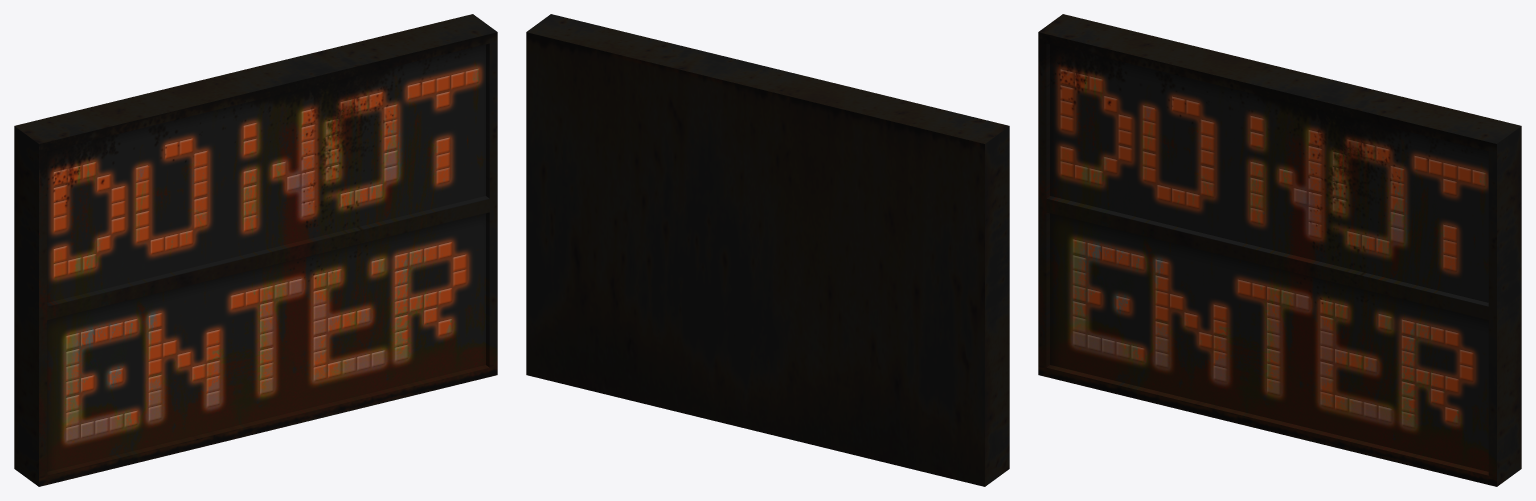
File: DoNotEnter.fbx
3 views of the same model, side by side, from view 1: azimuth 30°, elevation 25°; view 2: azimuth 150°, elevation 25°; view 3: azimuth 330°, elevation 25° (orthographic).
Visible parts, largest first — view 1: doNotEnter; view 2: doNotEnter; view 3: doNotEnter.
Boxes of the visible parts, box(x1,y1,x2,y2) form: doNotEnter: box(14, 14, 497, 486); doNotEnter: box(526, 14, 1009, 486); doNotEnter: box(1038, 14, 1521, 486).
Bounding box in the file's own units: 7 × 5 × 0.6558.
